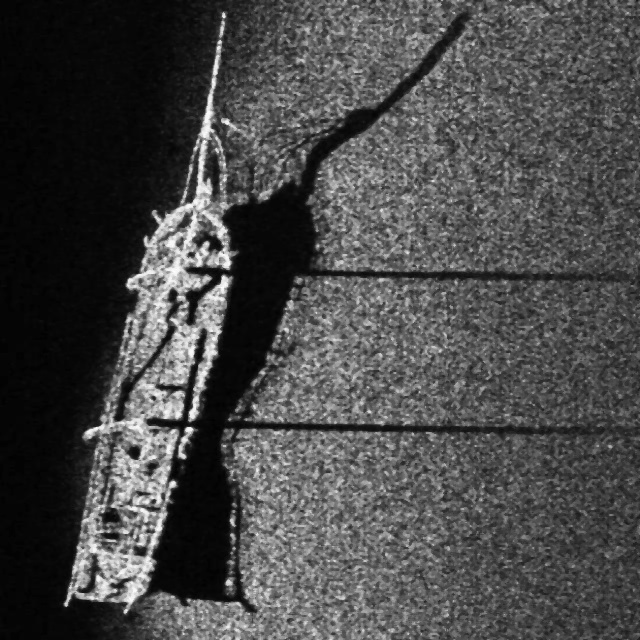Ship: (52, 7, 248, 625)
